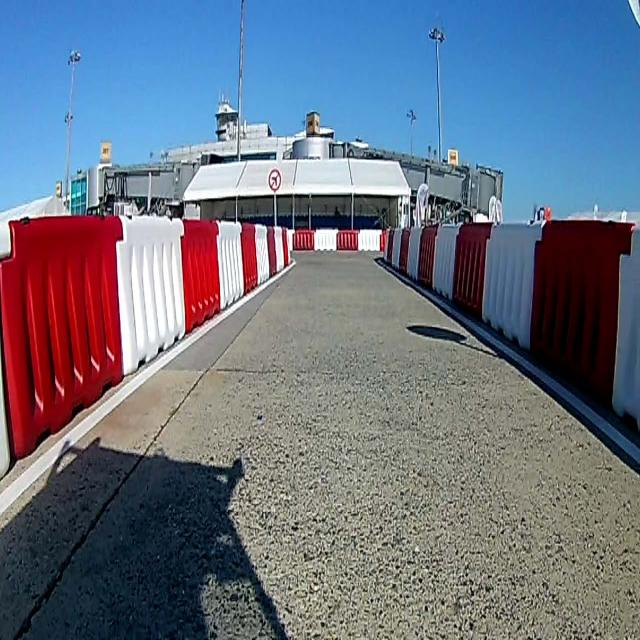soladonulmez: (266, 170, 283, 192)
